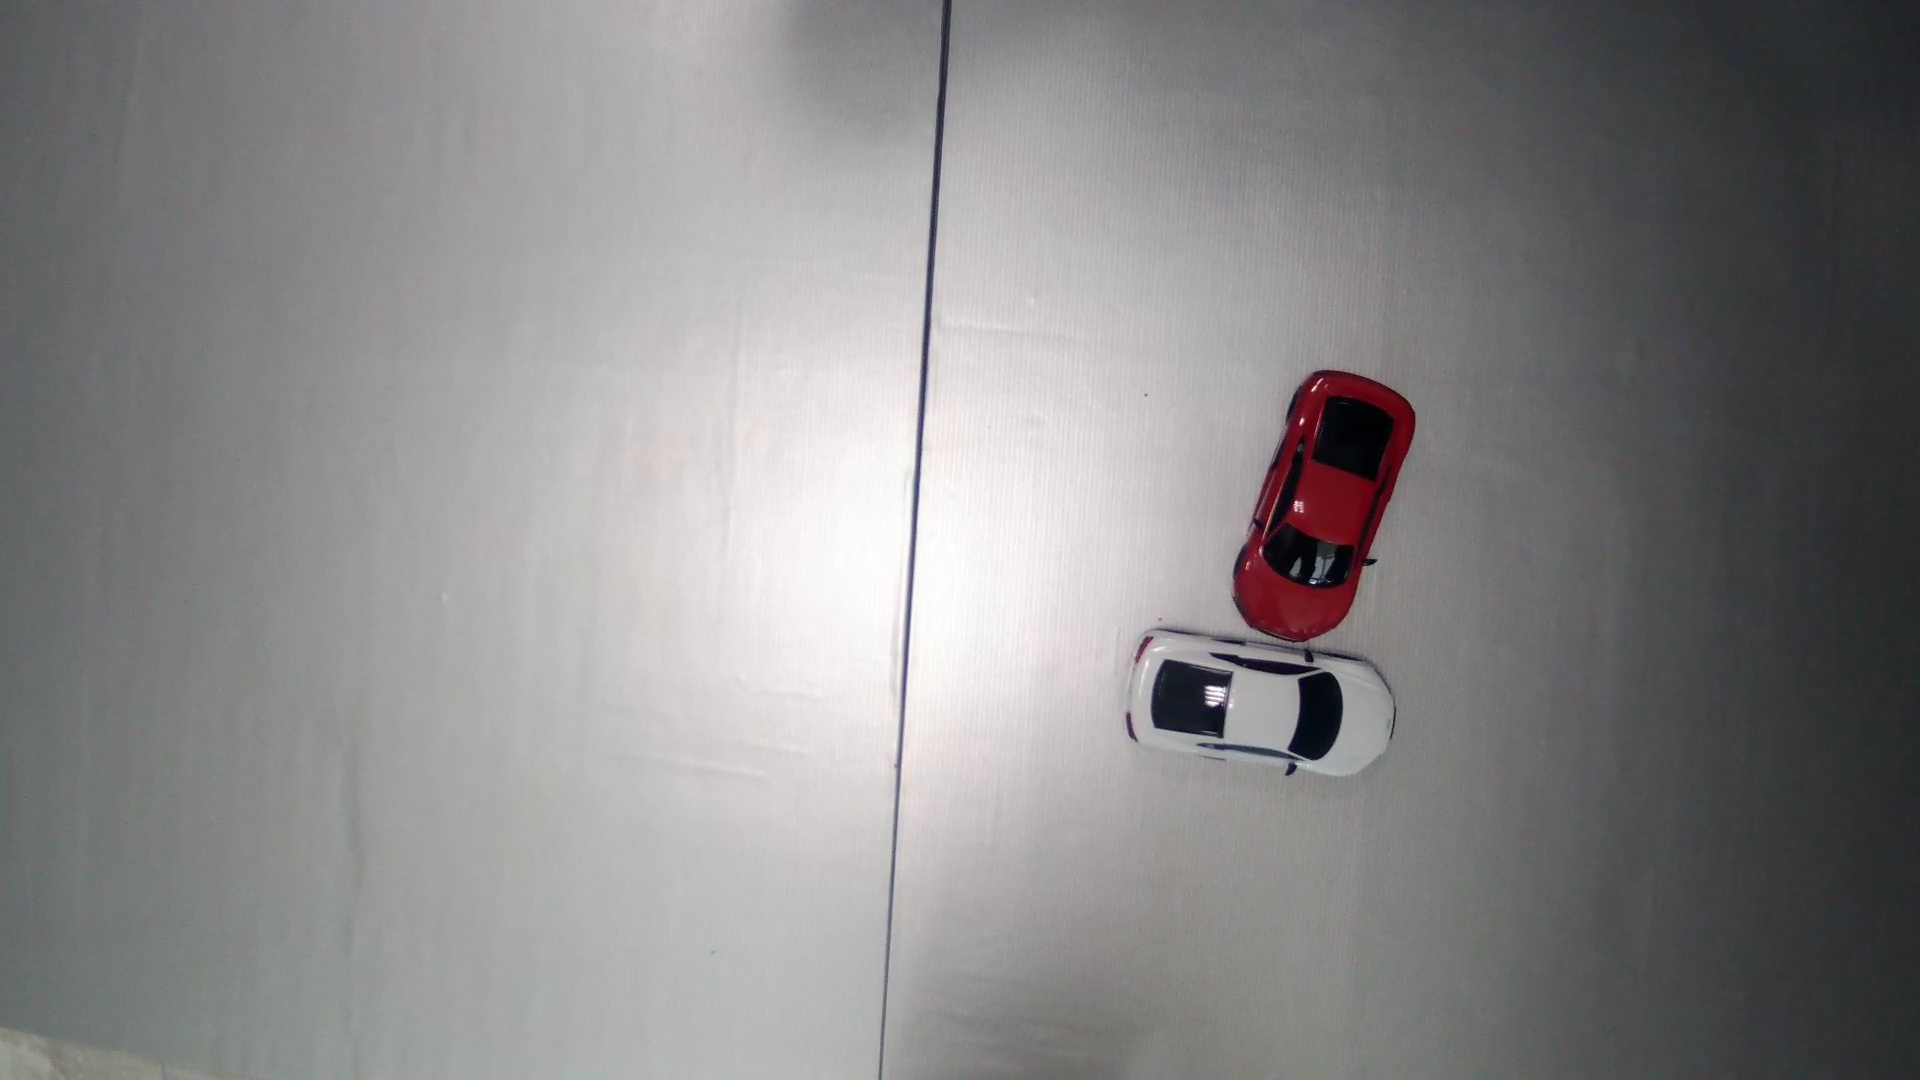remote_car: (1236, 368, 1420, 647), (1121, 626, 1400, 778)
